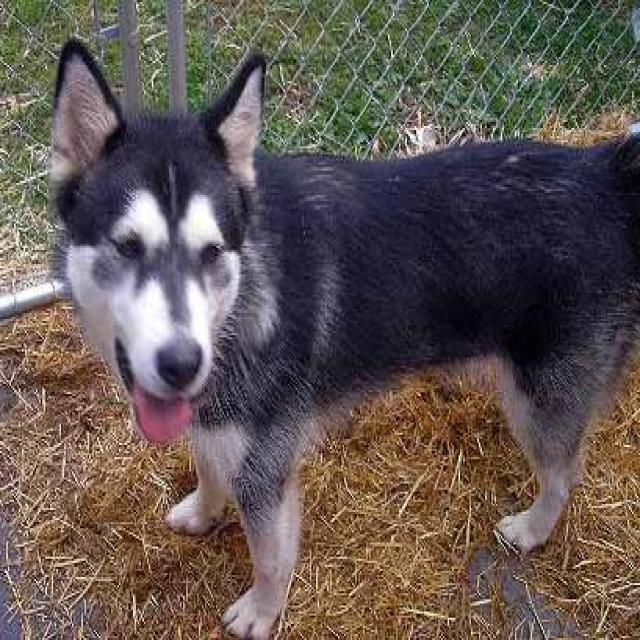dog: (46, 37, 638, 638)
